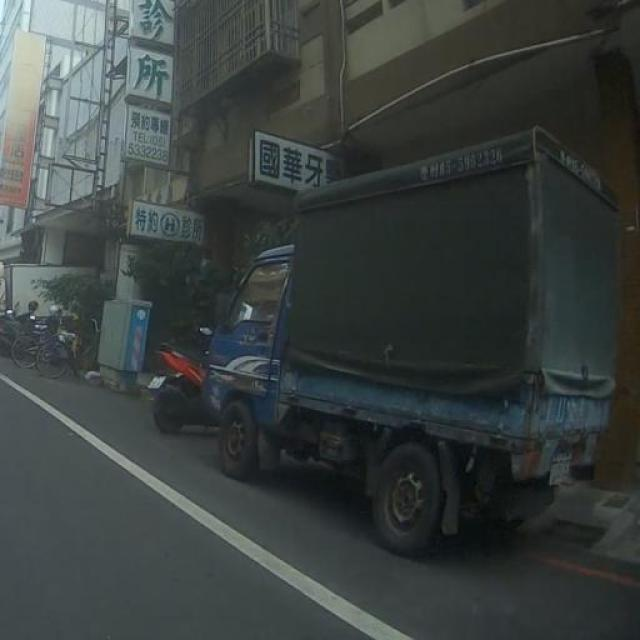Legalparking: (18, 248, 114, 388)
illegalparking: (205, 128, 616, 556)
